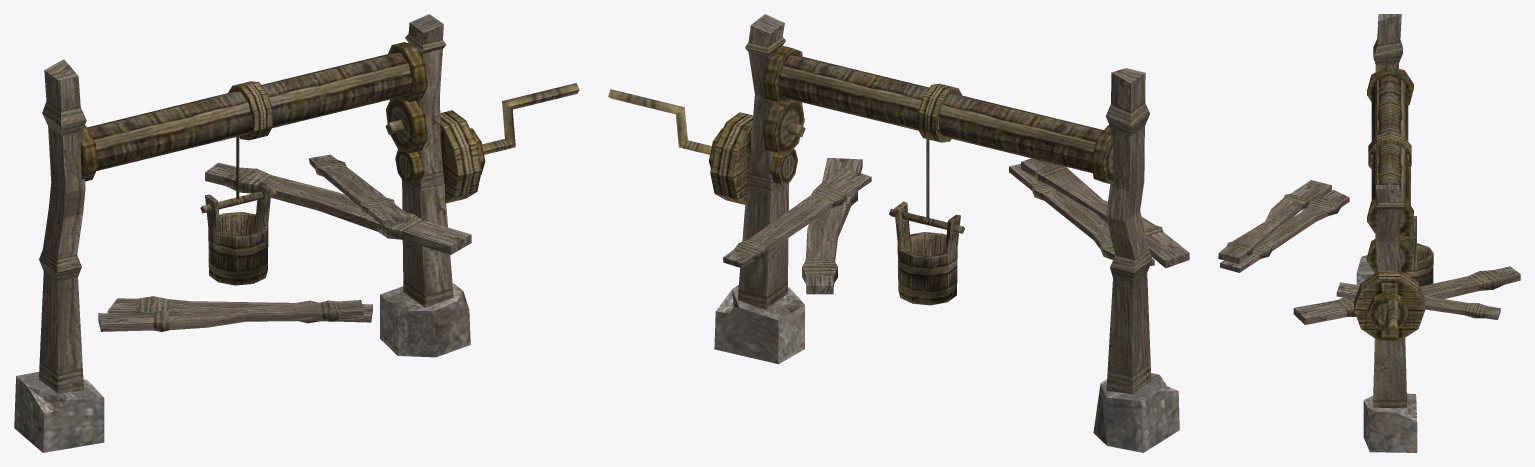
Rendered from bg_anh_etc_wl02_03_sm_old.FBX.
3 views of the same model, side by side, from view 1: azimuth 30°, elevation 25°; view 2: azimuth 150°, elevation 25°; view 3: azimuth 270°, elevation 25° (orthographic). The views are drawn at different scales.
Parts seen in each view (by area): view 1: bg_anh_etc_wl02_03_sm_old; view 2: bg_anh_etc_wl02_03_sm_old; view 3: bg_anh_etc_wl02_03_sm_old.
Boxes of the visible parts, x1,y1,x2,y2 form: bg_anh_etc_wl02_03_sm_old: (14, 14, 579, 452); bg_anh_etc_wl02_03_sm_old: (608, 14, 1189, 452); bg_anh_etc_wl02_03_sm_old: (1218, 14, 1520, 452).
Bounding box in the file's own units: 314 × 199 × 189.
